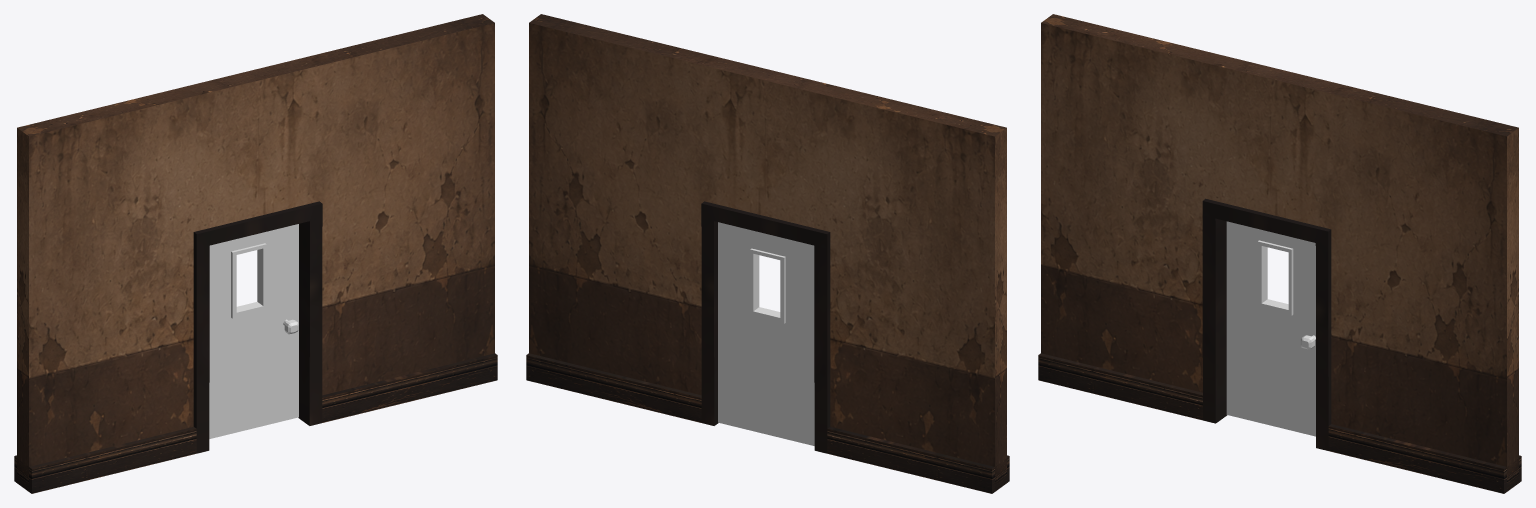
File: PuertaAbierta.fbx
The picture shows the model from 3 angles, left to right: view 1: azimuth 30°, elevation 25°; view 2: azimuth 150°, elevation 25°; view 3: azimuth 330°, elevation 25°; orthographic projection.
Parts seen in each view (by area): view 1: paredPuertaAbierta, PuertaAbierta; view 2: paredPuertaAbierta, PuertaAbierta; view 3: paredPuertaAbierta, PuertaAbierta.
Boxes of the visible parts, x1=… form: paredPuertaAbierta: x1=14, y1=14, x2=497, y2=493; PuertaAbierta: x1=209, y1=224, x2=298, y2=438; paredPuertaAbierta: x1=526, y1=14, x2=1009, y2=493; PuertaAbierta: x1=718, y1=222, x2=814, y2=445; paredPuertaAbierta: x1=1038, y1=14, x2=1521, y2=493; PuertaAbierta: x1=1226, y1=221, x2=1315, y2=436.
Size of the model in its own units: 1191 by 868 by 80.7.
2 materials, 1 textured.
